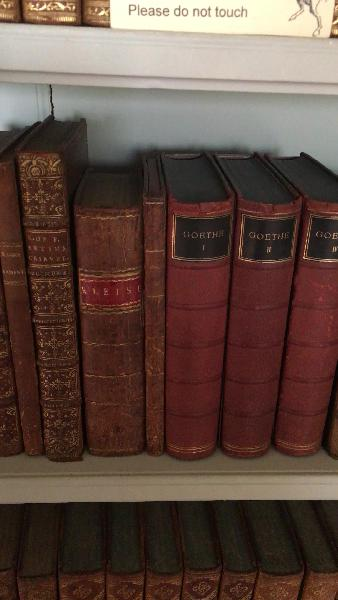Aa6-10: (140, 187, 167, 459)
Aa6-11_13: (161, 189, 334, 460)
Aa6-7: (1, 152, 43, 461)
Aa6-8: (15, 151, 92, 464)
Aa6-9: (68, 200, 147, 458)
